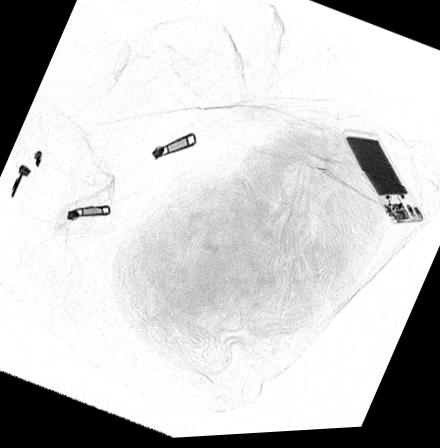Powerbank: (342, 133, 427, 230)
